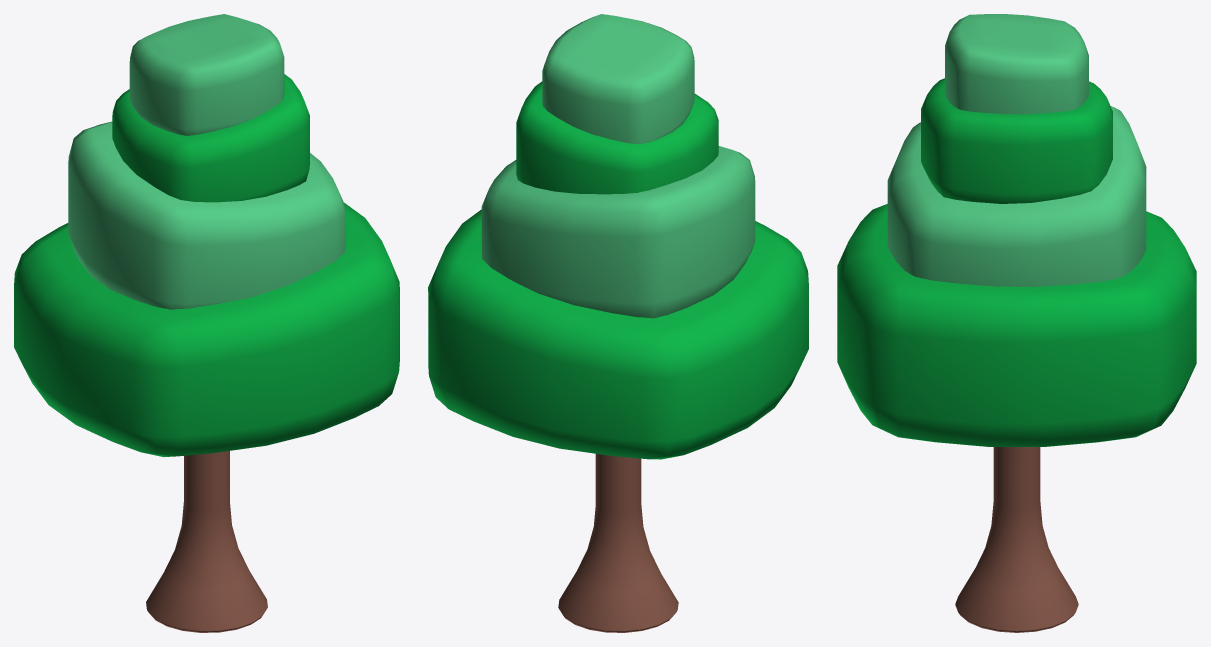
File: Town_4_Tree_1.glb
The picture shows the model from 3 angles, left to right: view 1: azimuth 30°, elevation 25°; view 2: azimuth 150°, elevation 25°; view 3: azimuth 270°, elevation 25°; orthographic projection. The views are drawn at different scales.
Parts seen in each view (by area): view 1: Town_4_Tree_1; view 2: Town_4_Tree_1; view 3: Town_4_Tree_1.
Part boxes in pixels (<box>): Town_4_Tree_1: <box>14,14,399,632</box>; Town_4_Tree_1: <box>428,14,808,632</box>; Town_4_Tree_1: <box>837,14,1196,632</box>.
Size of the model in its own units: 3.8 by 6.76 by 3.8.
1 material, 1 textured.
